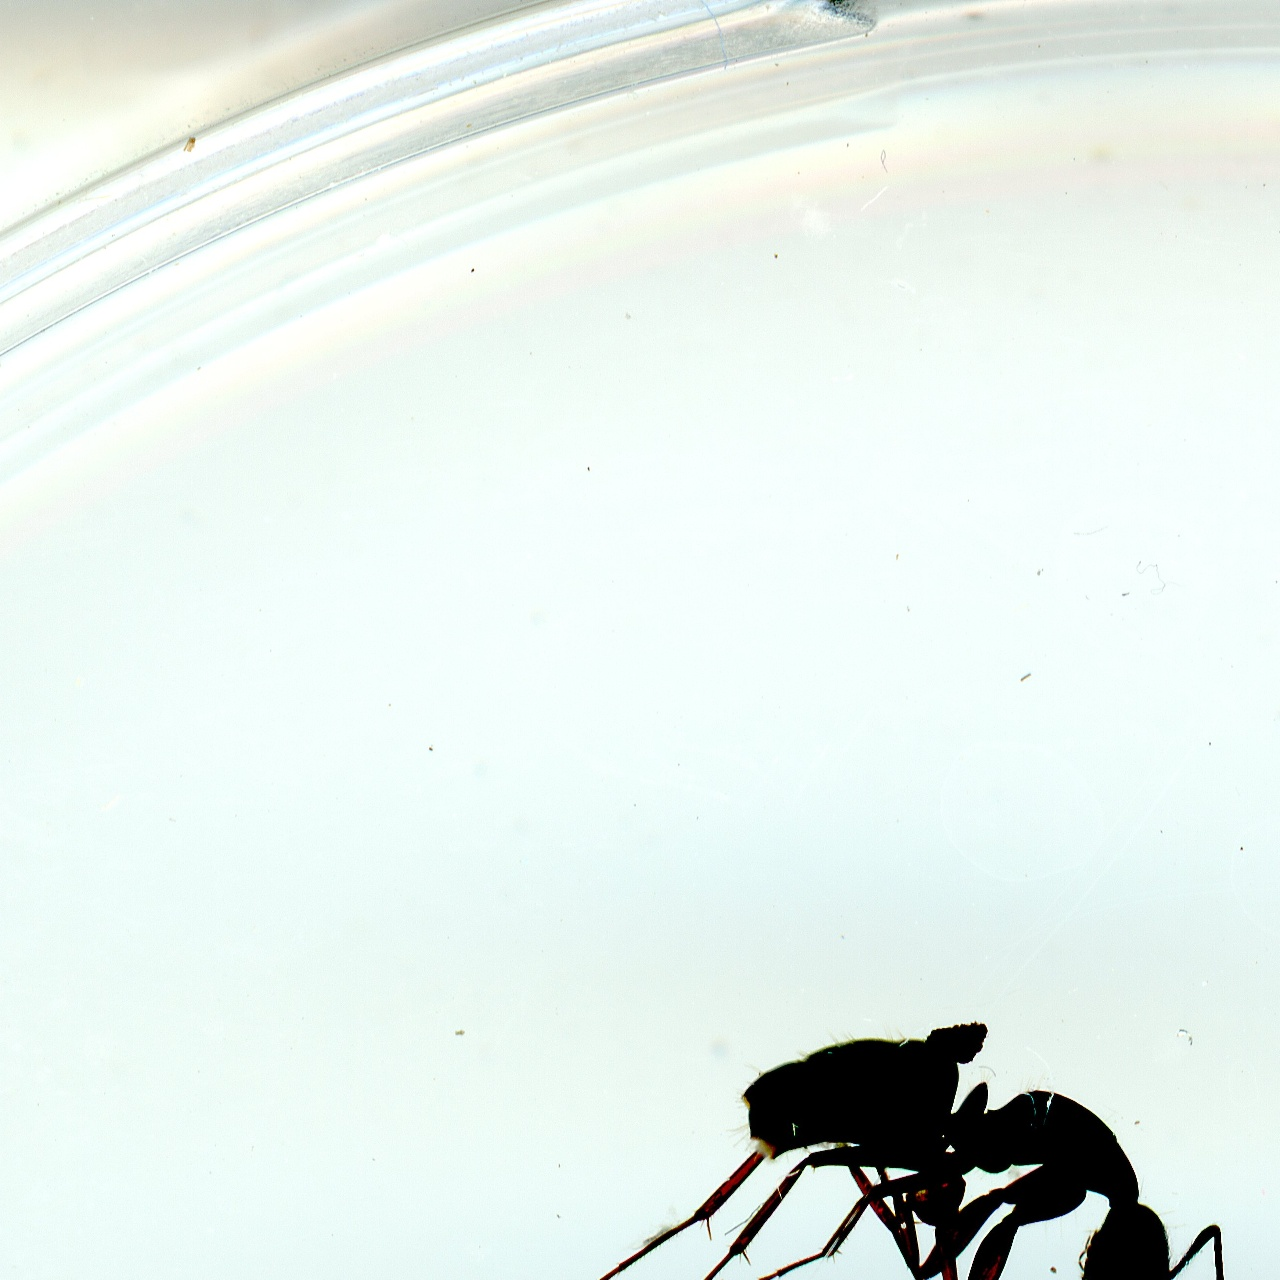arthropod: (568, 1007, 1261, 1280)
